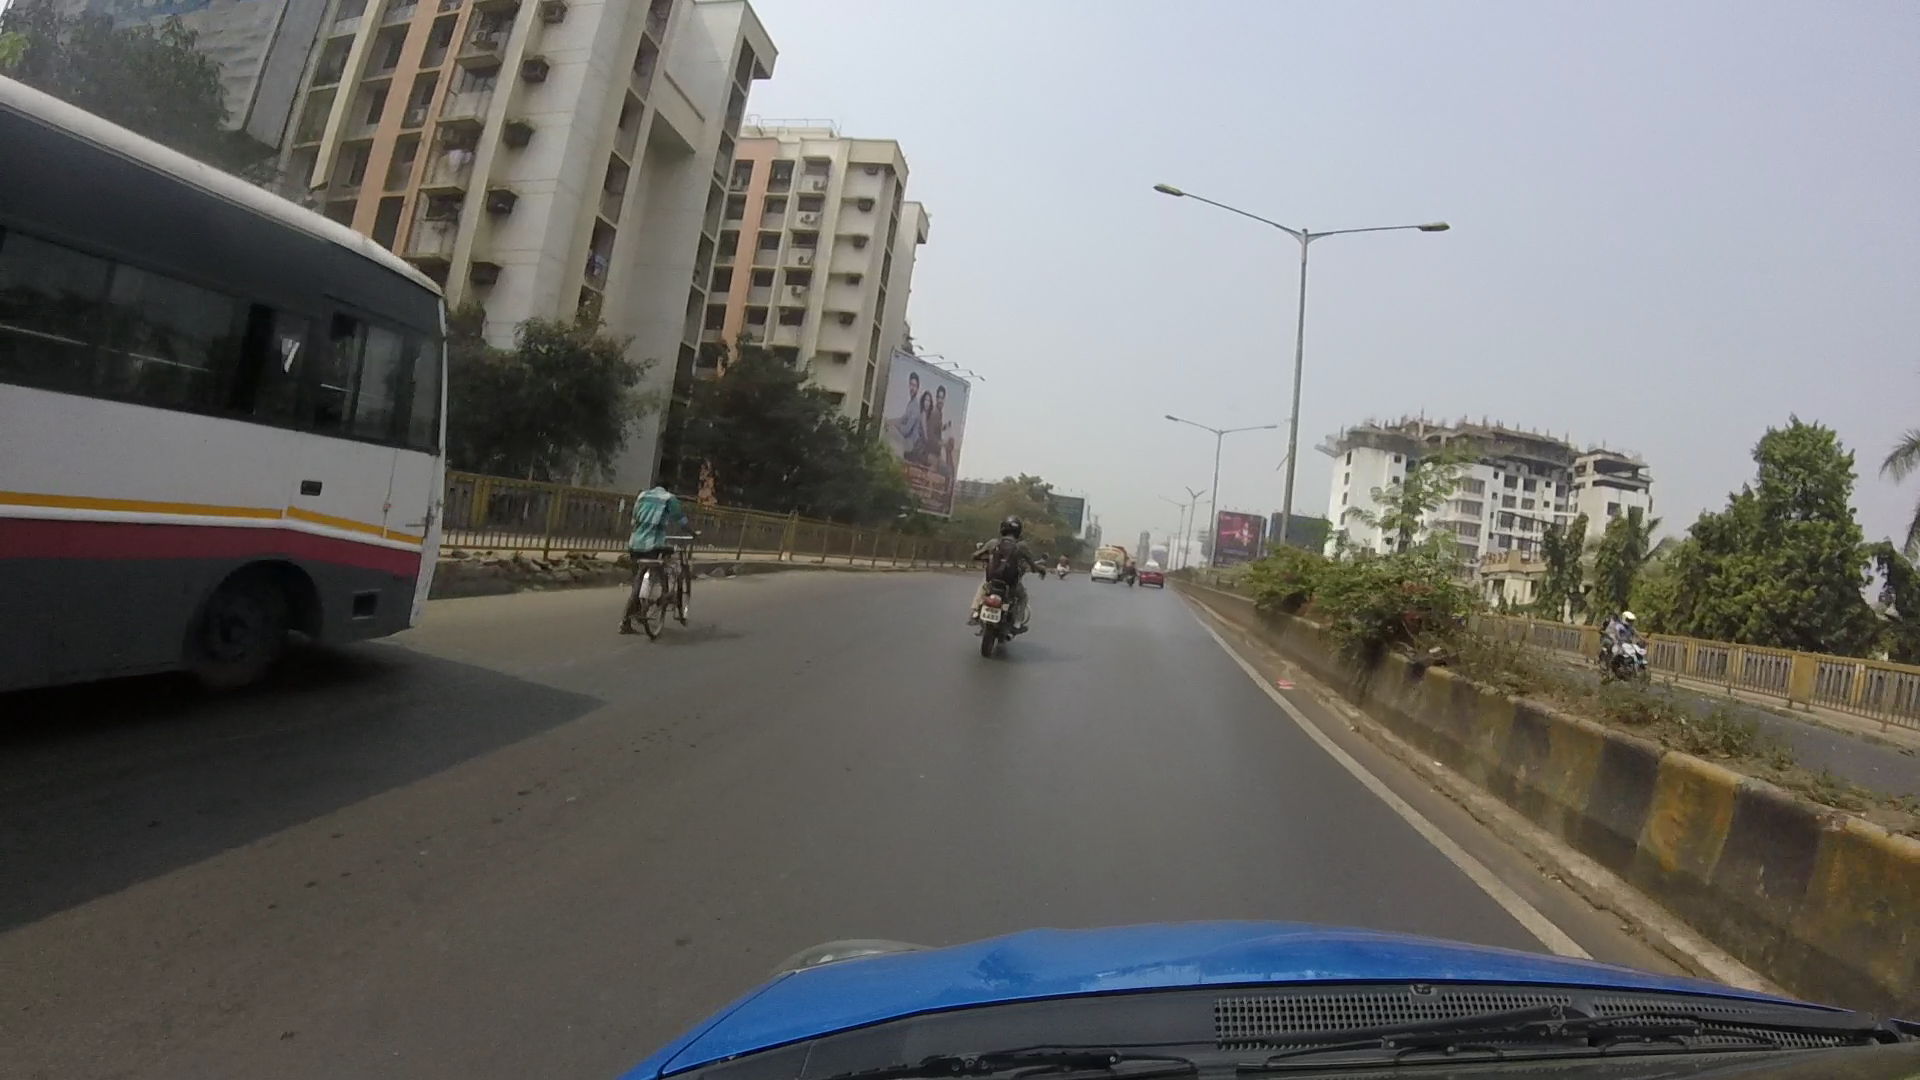bike/scooter: (918, 487, 1116, 690)
bus: (4, 80, 498, 804)
